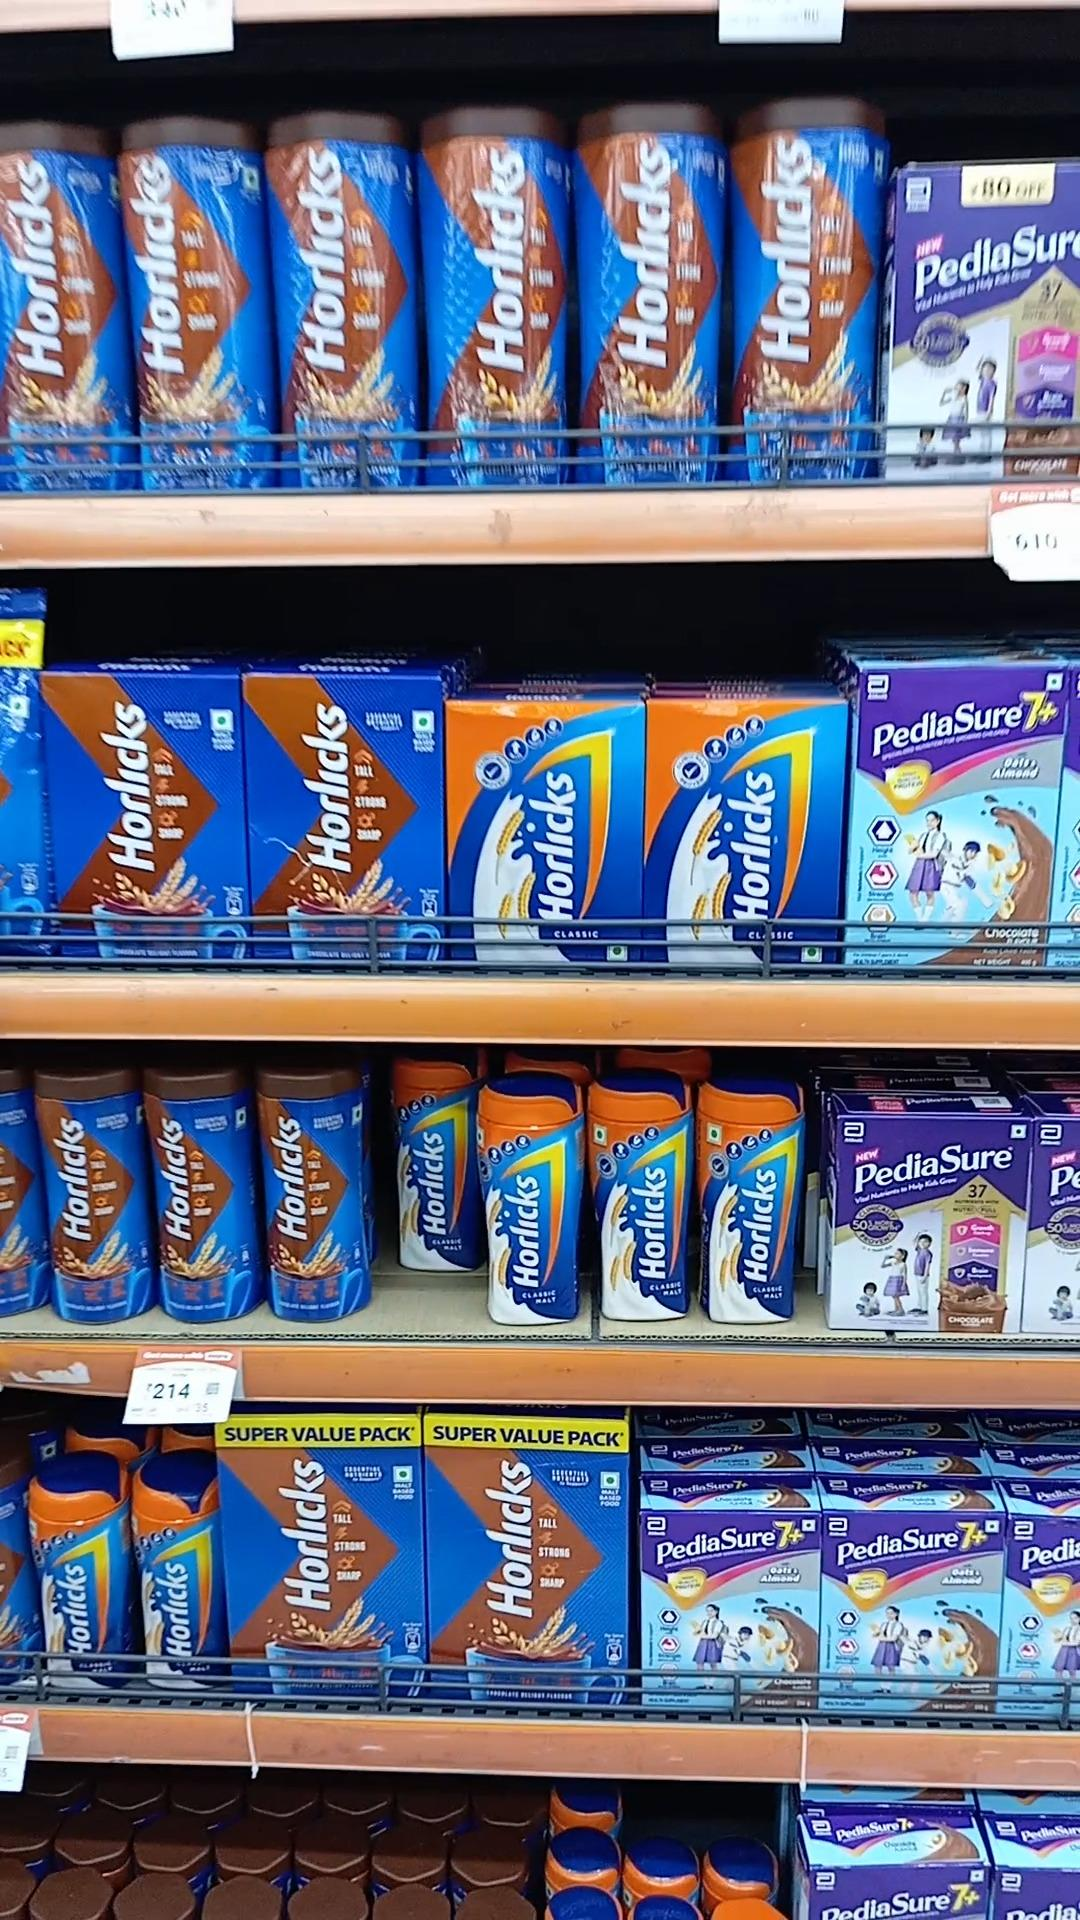HORLICK_CHOCOLATE_1_KG_PACK: (429, 1414, 630, 1702), (227, 1420, 417, 1695)
HORLICK_CHOCOLATE_500_G_JAR: (256, 1060, 372, 1319), (149, 1060, 248, 1321), (46, 1058, 140, 1320)
HORLICK_CHOCOLATE_500_G_PACK: (245, 676, 436, 963), (50, 671, 235, 963)
HORLICK_CLASSIC_MALT_500_G_JAR: (589, 1063, 691, 1327), (480, 1069, 579, 1328), (696, 1076, 798, 1324), (34, 1456, 123, 1689), (136, 1455, 218, 1693), (392, 1056, 472, 1278)
HORLICK_CLASSIC_MALT_500_G_PACK: (644, 703, 840, 973), (443, 702, 638, 968)
PEDIASURE_7_PLUS_CHOCOLATE_400_G_PACK: (853, 667, 1059, 972), (825, 1507, 998, 1721), (640, 1511, 819, 1716)
PEDIASURE_CHOCOLATE_500_G_PACK: (895, 157, 1080, 487), (831, 1117, 1023, 1336)
